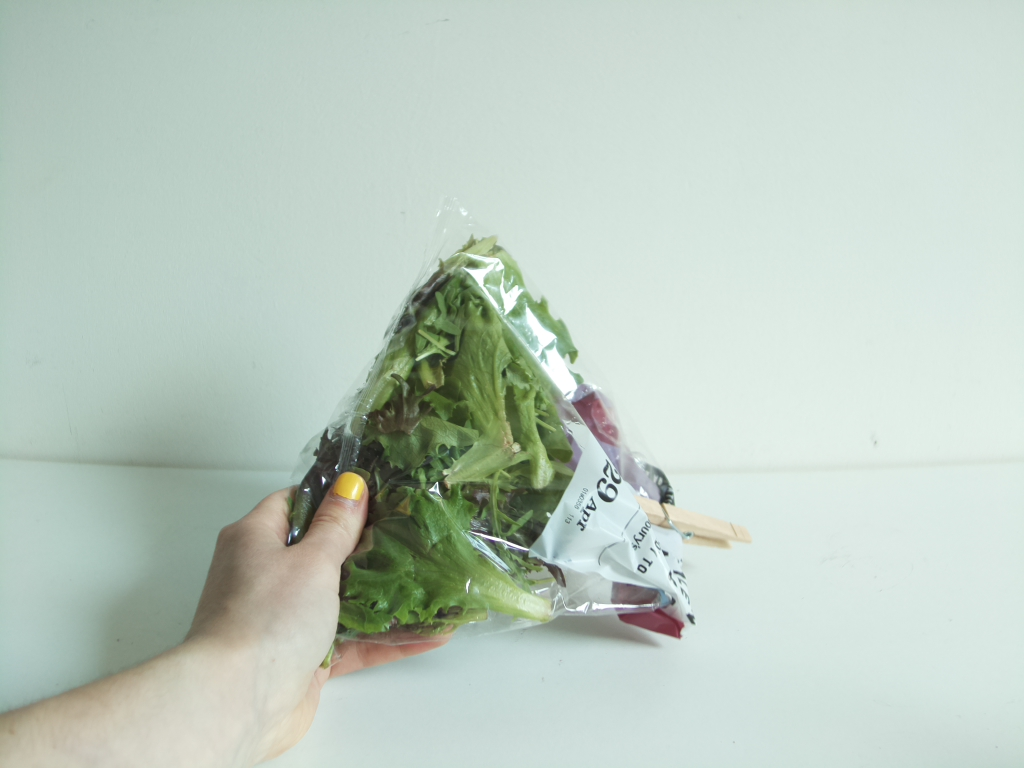salad: (289, 235, 740, 649)
